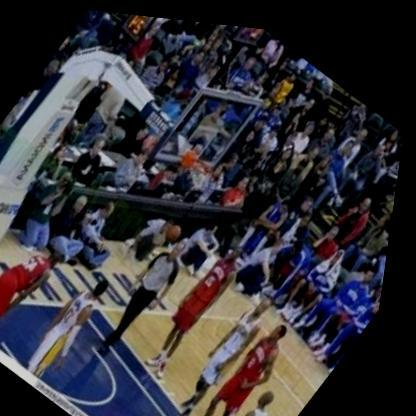basketball: (166, 212, 195, 244)
